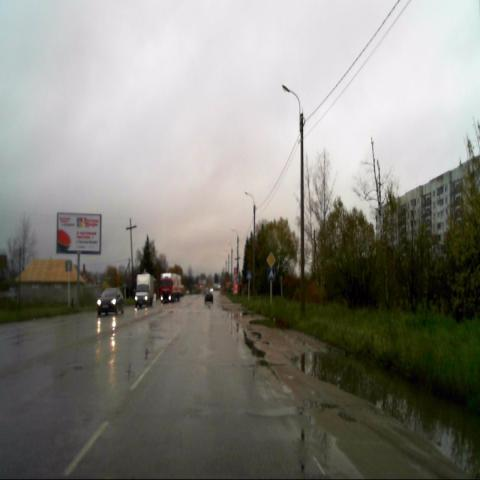2_1: (266, 250, 276, 268)
5_20: (267, 268, 275, 281)
